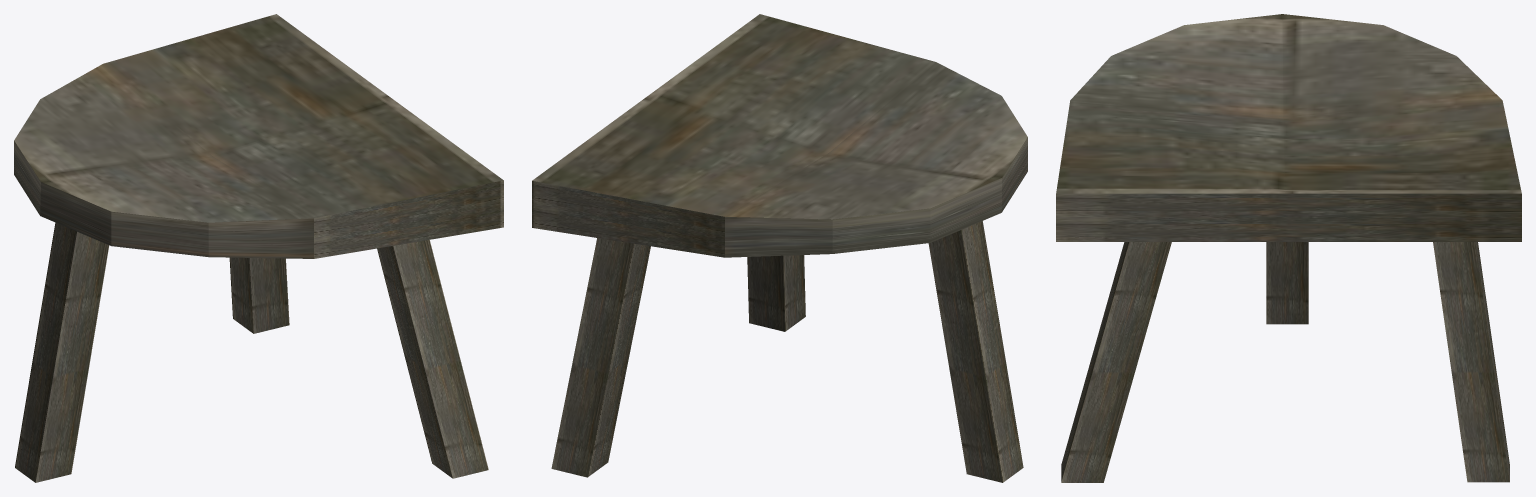
Rendered from stool.glb.
3 renders of one model, left to right at view 1: azimuth 30°, elevation 25°; view 2: azimuth 150°, elevation 25°; view 3: azimuth 270°, elevation 25°, orthographic. The views are drawn at different scales.
Visible parts, largest first — view 1: Cube; view 2: Cube; view 3: Cube.
Part boxes in pixels (x1=…): Cube: x1=14, y1=14, x2=503, y2=482; Cube: x1=532, y1=14, x2=1027, y2=482; Cube: x1=1056, y1=14, x2=1521, y2=482.
Bounding box in the file's own units: 2.17 × 1.65 × 2.33.
Materials: 1 (1 with a texture image).
